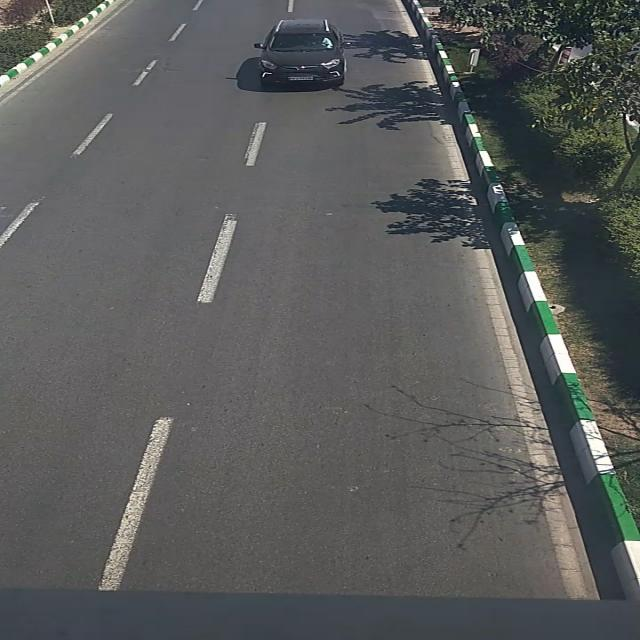car: (255, 18, 352, 89)
